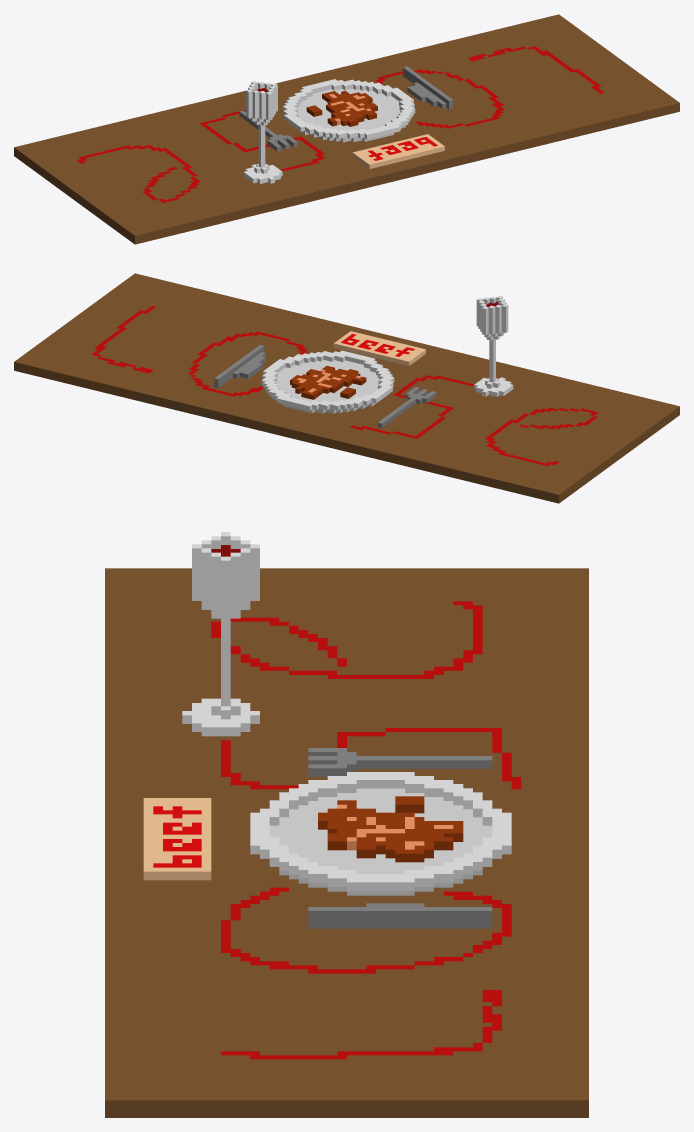
File: lose_table_with lose.fbx
The picture shows the model from 3 angles, top to bottom: view 1: azimuth 30°, elevation 25°; view 2: azimuth 150°, elevation 25°; view 3: azimuth 270°, elevation 25°; orthographic projection. The views are drawn at different scales.
Visible parts, largest first — view 1: Polygon, Polygon_1, Polygon_2; view 2: Polygon, Polygon_1, Polygon_2; view 3: Polygon, Polygon_1, Polygon_2.
Boxes of the visible parts, left/top/right/bottom form: Polygon: left=14, top=14, right=679, bottom=244; Polygon_1: left=243, top=81, right=282, bottom=183; Polygon_2: left=352, top=134, right=444, bottom=168; Polygon: left=14, top=273, right=679, bottom=503; Polygon_1: left=474, top=295, right=513, bottom=396; Polygon_2: left=333, top=331, right=425, bottom=365; Polygon: left=105, top=568, right=588, bottom=1117; Polygon_1: left=182, top=532, right=259, bottom=736; Polygon_2: left=143, top=798, right=211, bottom=880.
Bounding box in the file's own units: 13 × 2.2 × 5.
Materials: 3 (3 with a texture image).
